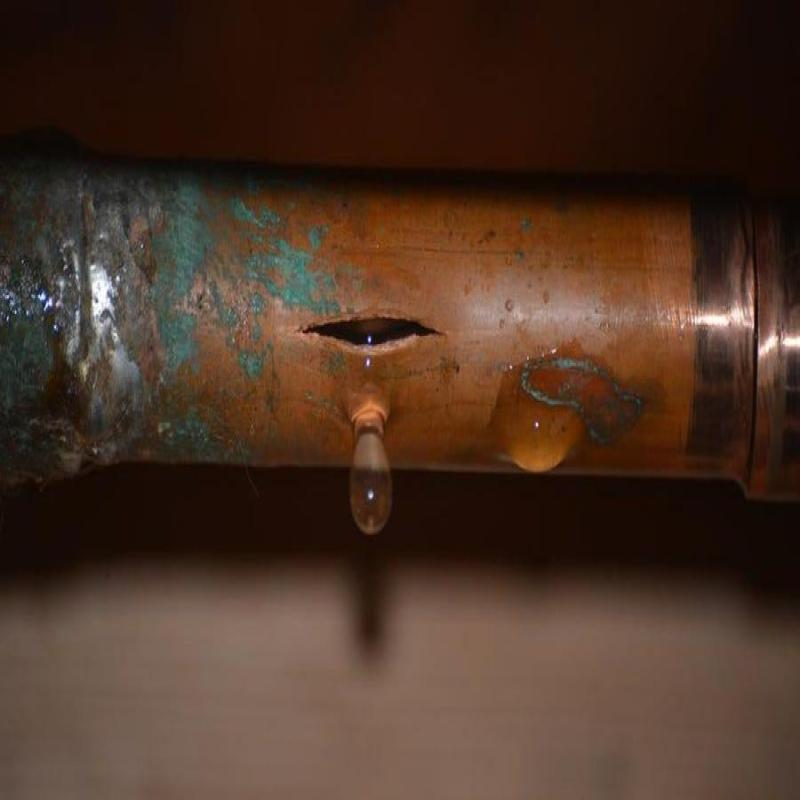Fracture: (296, 300, 460, 370)
